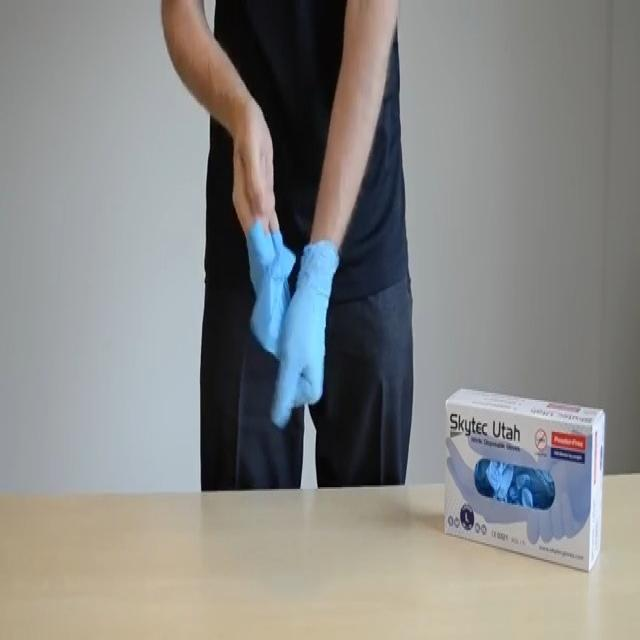Gloves: (270, 238, 351, 441), (238, 207, 287, 370)
